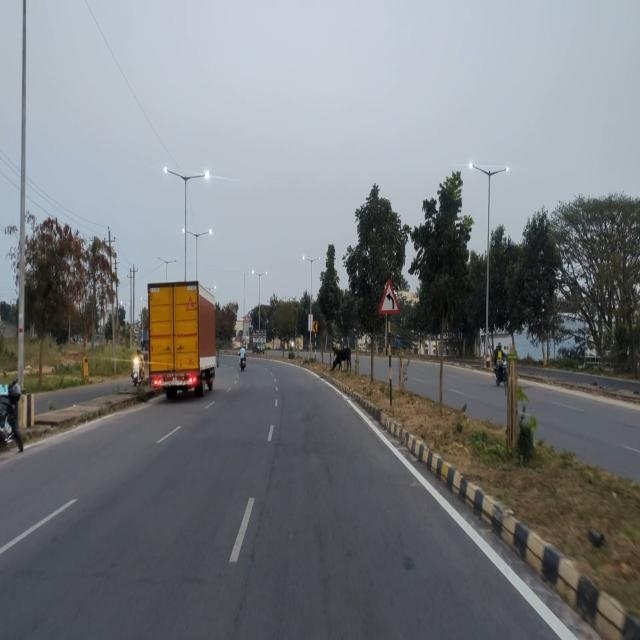bien_nguy_hiem: (377, 277, 401, 316)
